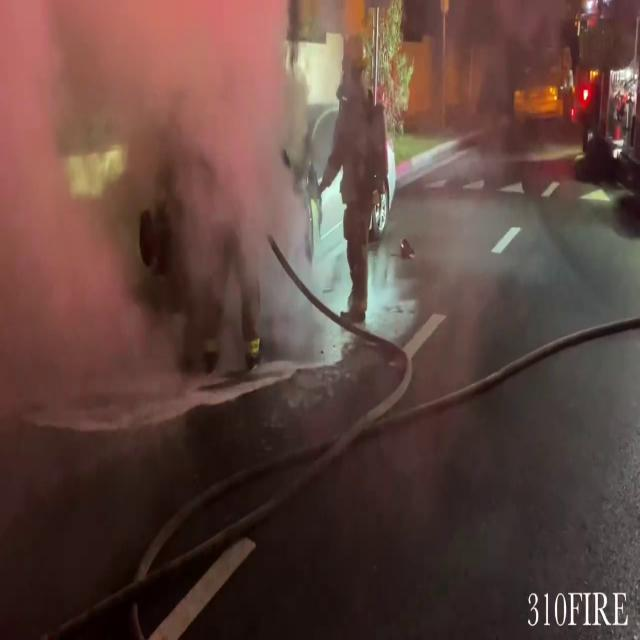Smoke: (0, 0, 322, 323)
